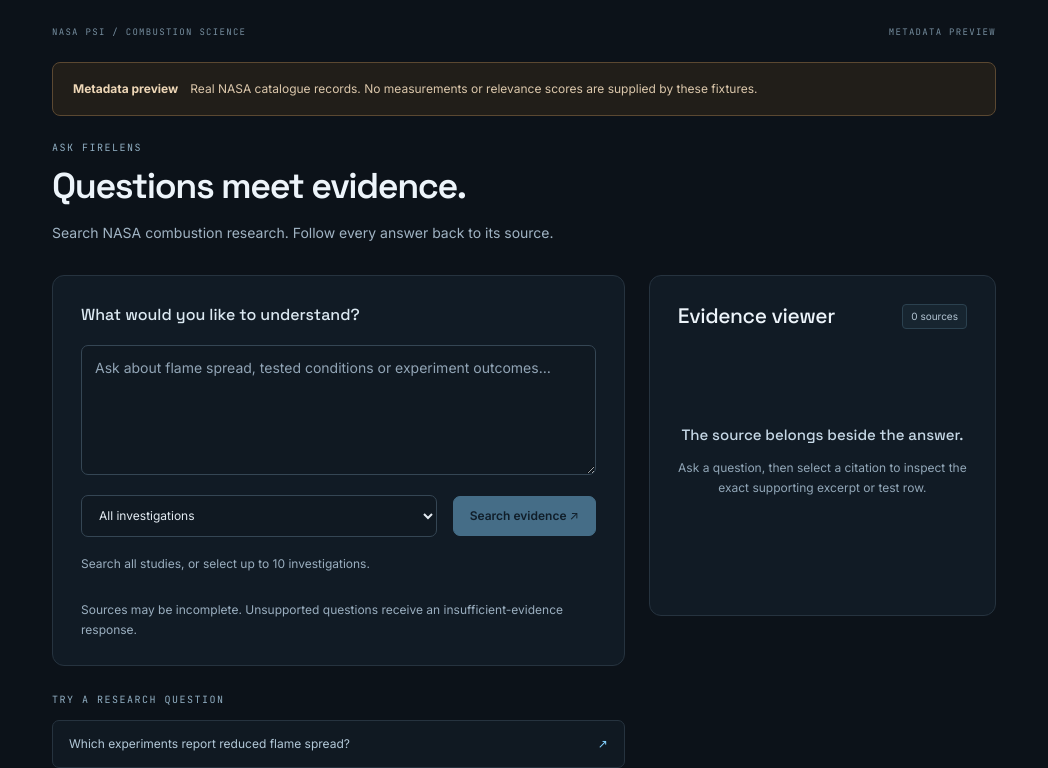
Test: Phase 7 research workspace › streams abstention and does not manufacture citation chips
Later steps or results of the test are not shown.
(page scrolled)
Replace the text in the text box labelled "What would you like to understand?" with "Which material is safest?" at (338, 410), box [81,345,596,475]
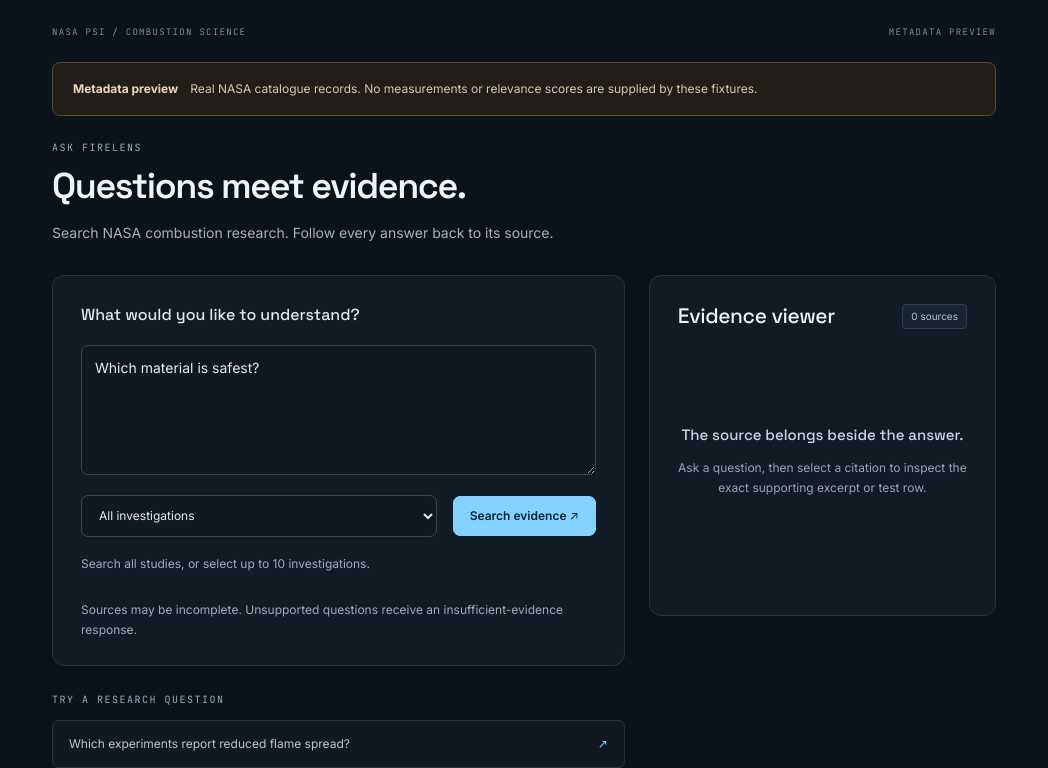
Click the button "Search evidence ↗" at (524, 516), box [453,496,596,536]
(page scrolled)
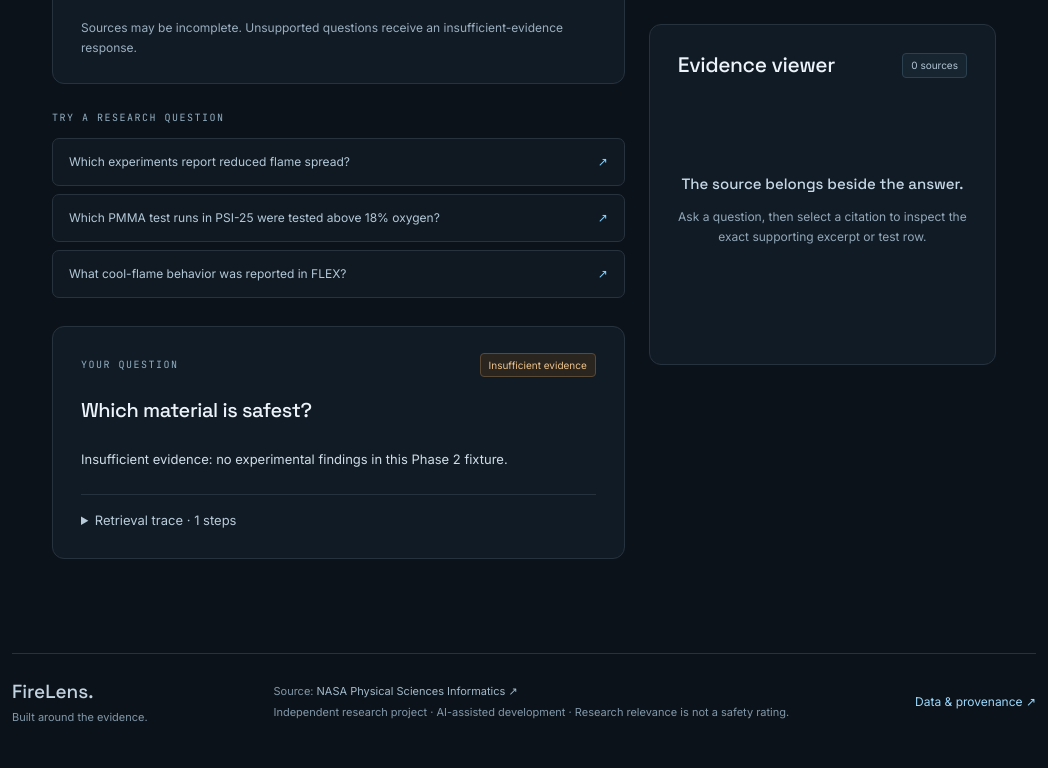
Now the text "Insufficient evidence" is shown, box [480,353,596,377]
Now the text "Insufficient evidence: no experimental" is shown, box [81,451,508,467]
Now the heading "Retrieval trace · 1 steps" is shown, box [95,512,236,528]
